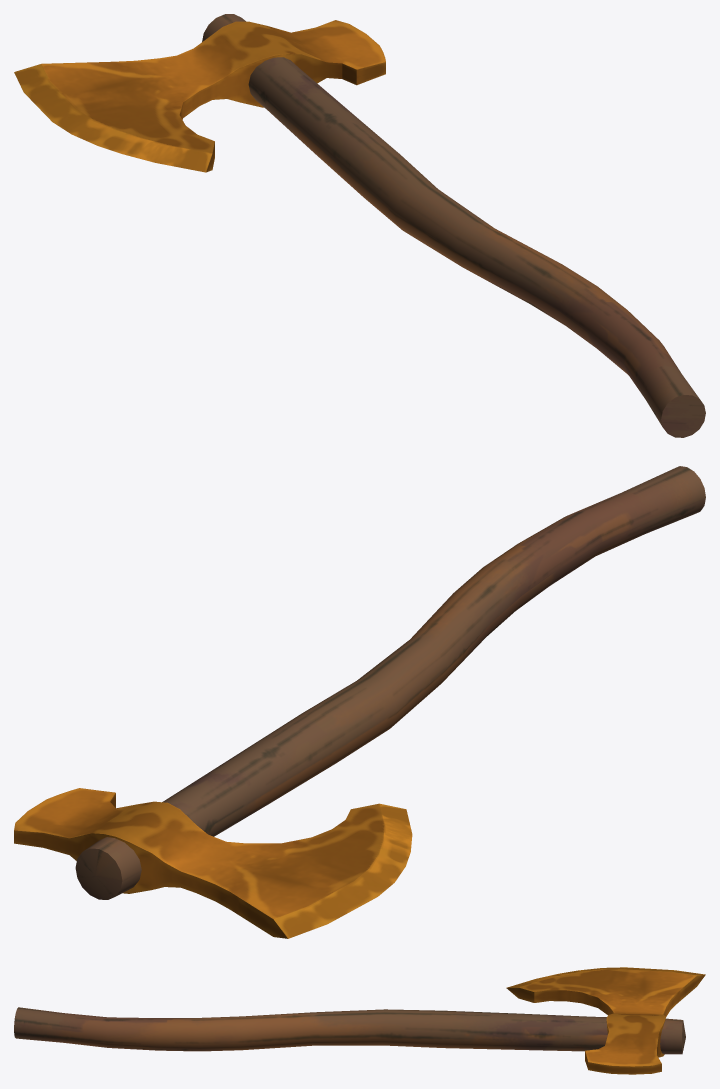
The model's file is battleaxe.glb.
3 views of the same model, one above another, from view 1: azimuth 30°, elevation 25°; view 2: azimuth 150°, elevation 25°; view 3: azimuth 270°, elevation 25° (orthographic). The views are drawn at different scales.
Visible parts, largest first — view 1: battleaxe; view 2: battleaxe; view 3: battleaxe.
Boxes of the visible parts, x1,y1,x2,y2 form: battleaxe: [14, 14, 705, 437]; battleaxe: [14, 466, 705, 938]; battleaxe: [14, 967, 705, 1074].
Size of the model in its own units: 0.4238 by 0.066 by 1.2.
1 material, 1 textured.
